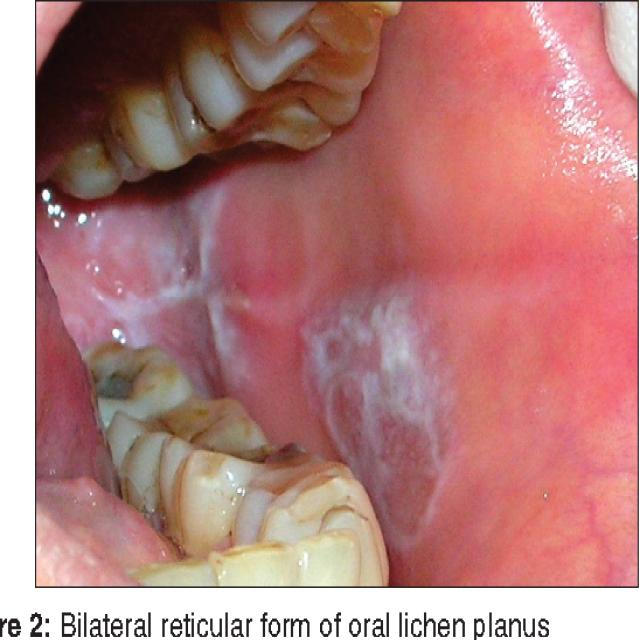leukoplakia-like-detection: (299, 267, 471, 567), (60, 180, 264, 394)
processing_area: (39, 0, 639, 590)
